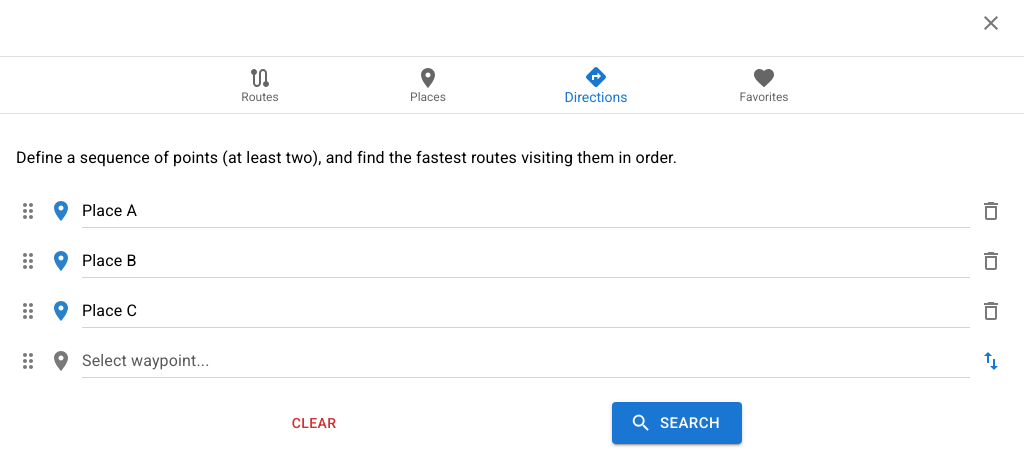
Test: <SearchDirecsPanel /> › bottom buttons › clear button should remove all points
Expected: the number of list items is 3, [16, 194, 1008, 244]; [16, 244, 1008, 294]; [16, 294, 1008, 344]
Click the button "Clear" at (314, 423), box [282, 402, 346, 444]
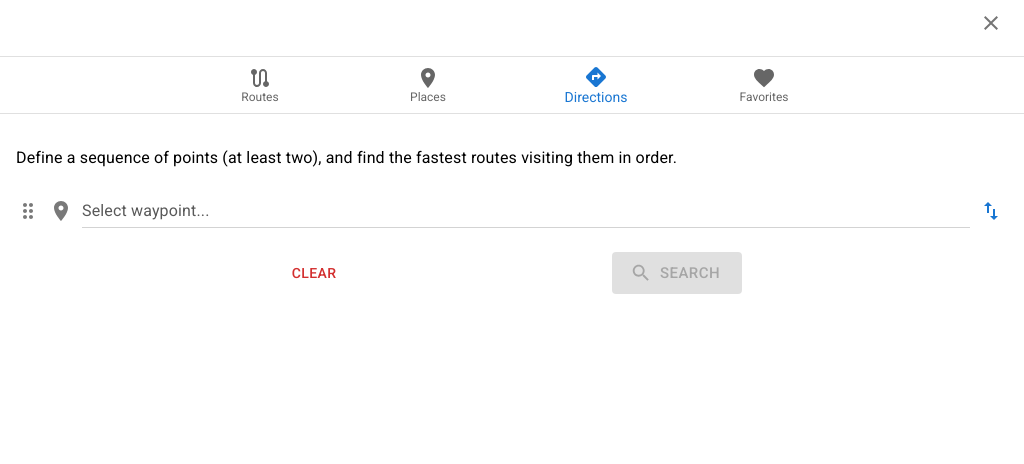
Now no list items are shown
